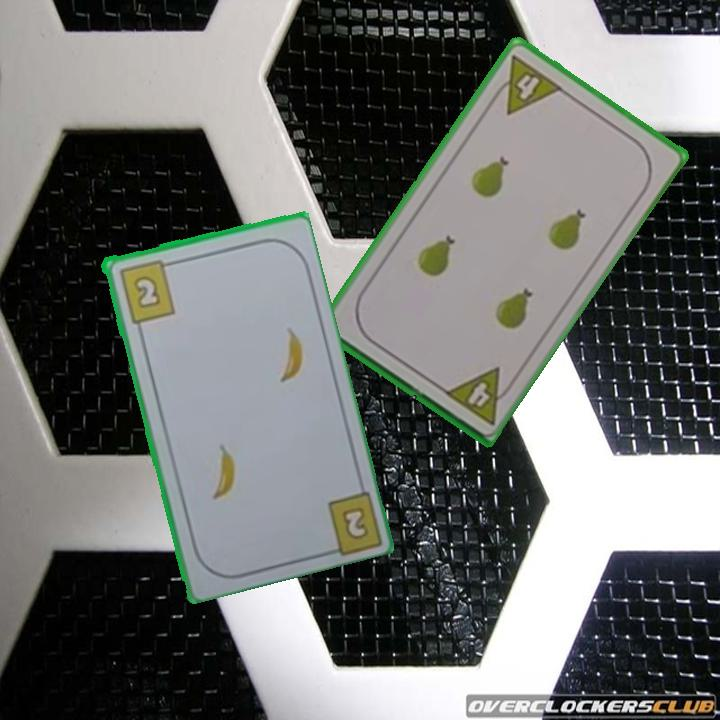2b: (115, 255, 178, 326), (337, 503, 371, 543)
4p: (486, 50, 566, 118), (440, 363, 518, 428)
